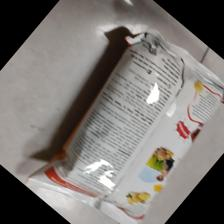Lays: (25, 25, 224, 224)
